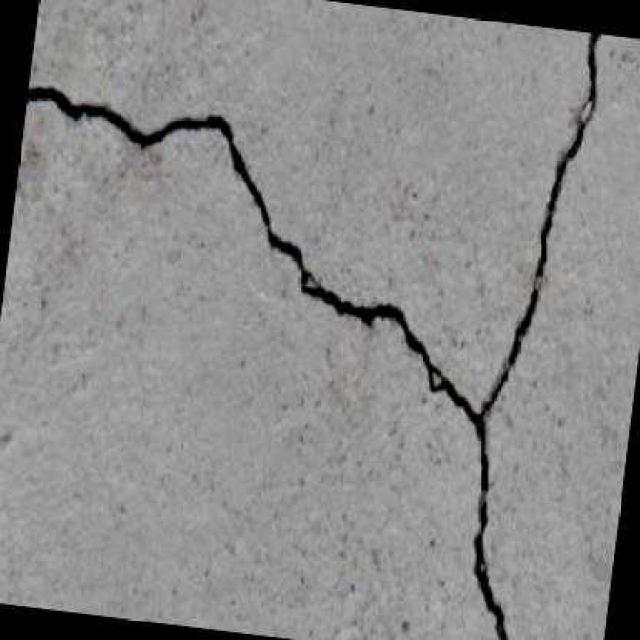D00: (24, 30, 601, 640)
